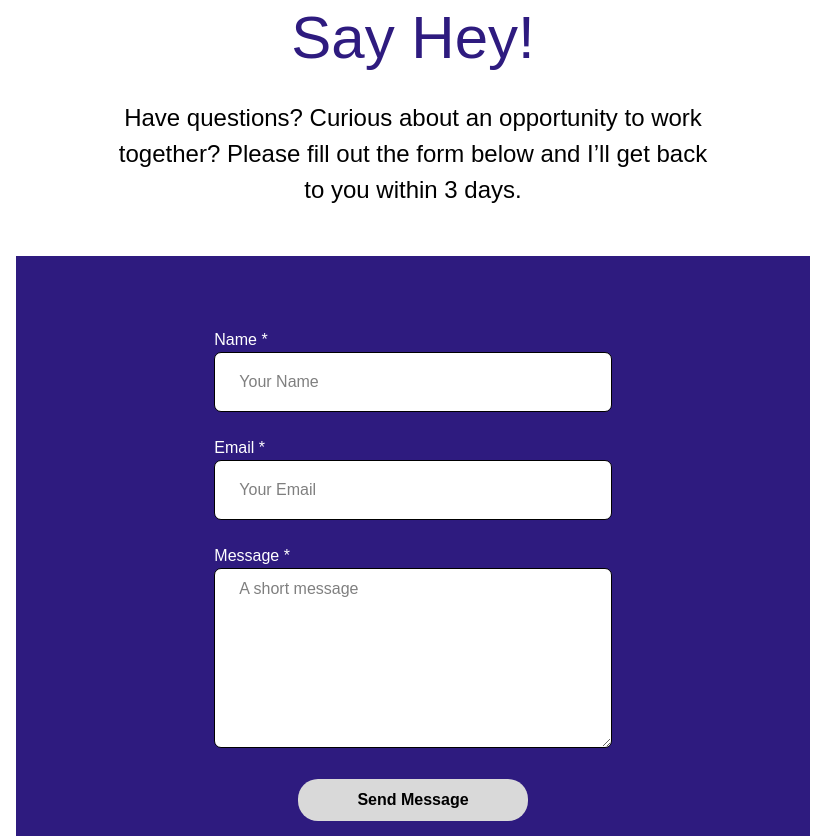
Contact component - error messages › should display an error message when the response is false and there are graphQL errors
Type "Jane Doe" into the field labelled "Name *". click: coordinates (413, 382)
box: [214, 352, 612, 412]
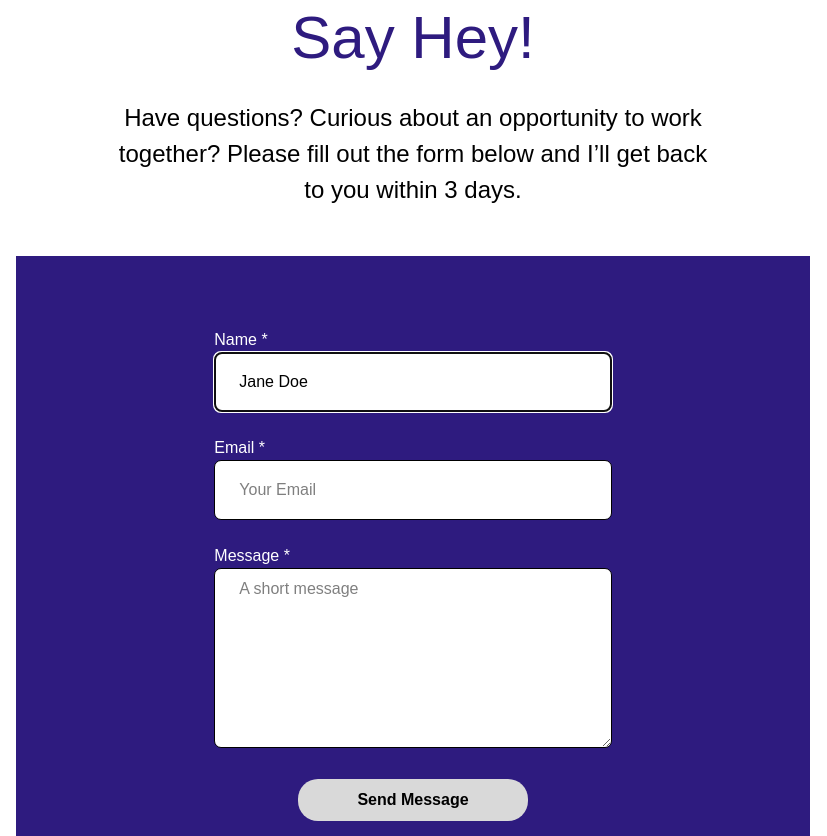
Type "jane@doe.com" into the field labelled "Email *". click: coordinates (413, 490)
box: [214, 460, 612, 520]
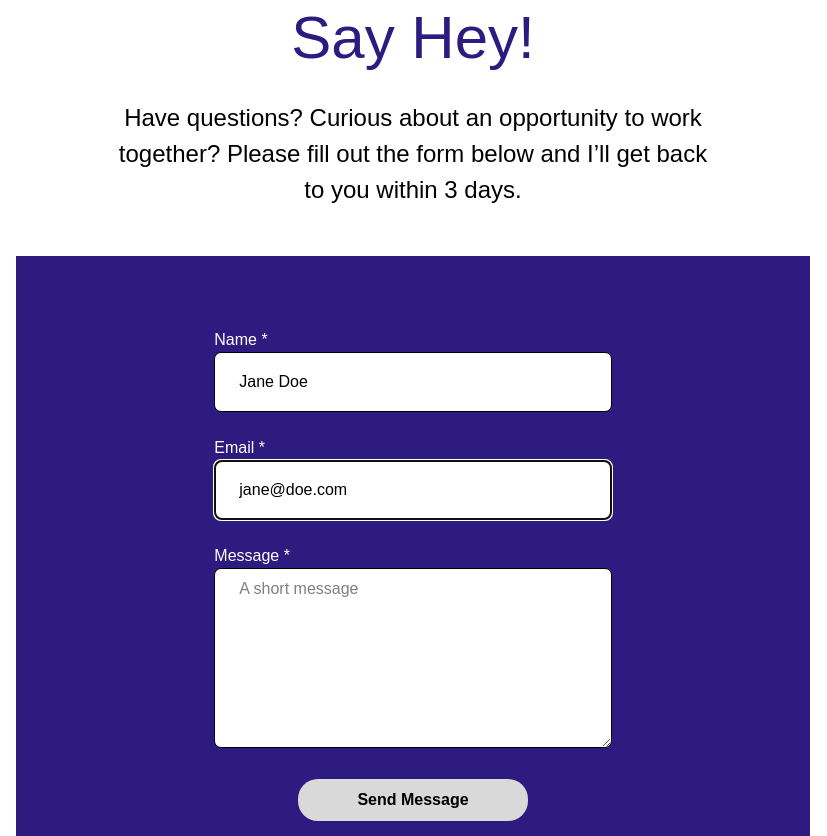
Type "Hello, this is a test message." into the text box labelled "Message *". click: coordinates (413, 658)
box: [214, 568, 612, 748]
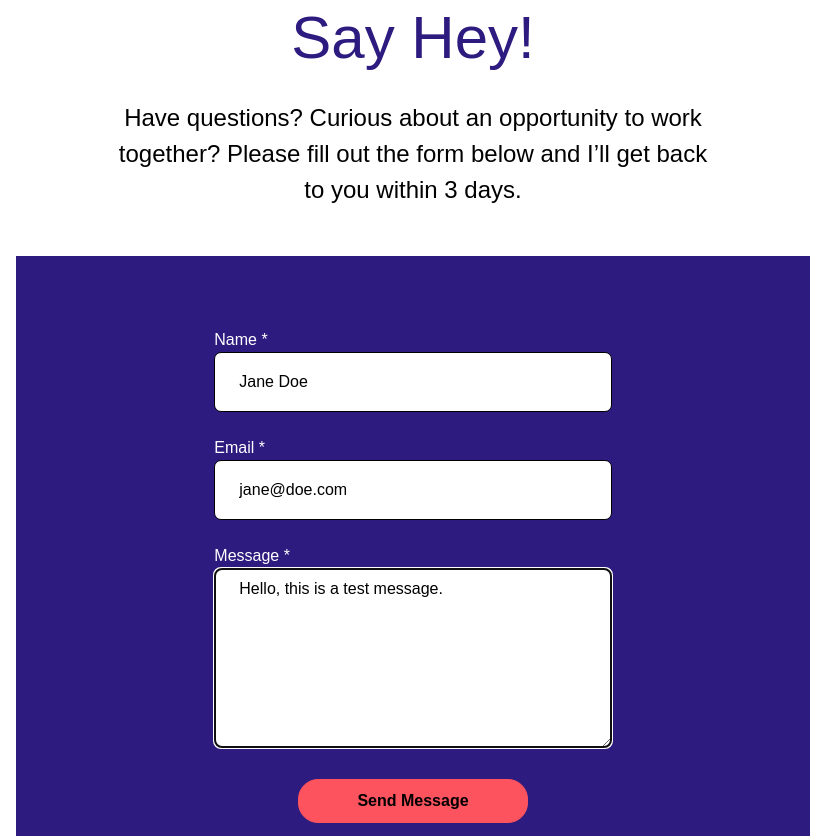
Click the button "Send Message". click: coordinates (413, 801)
box: [298, 779, 528, 823]
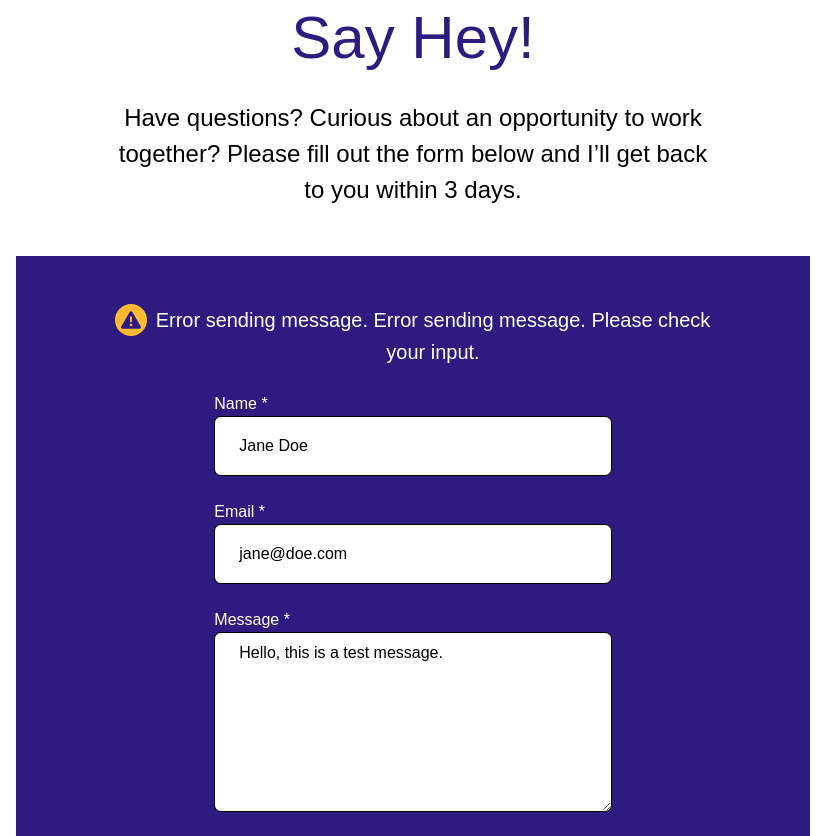
Result: the element with test id "submission-message" is shown at [115, 304, 711, 368]
Result: the element with test id "submission-message" reads "Error sending message. Error sending message. Please check your input." at [156, 309, 710, 363]
